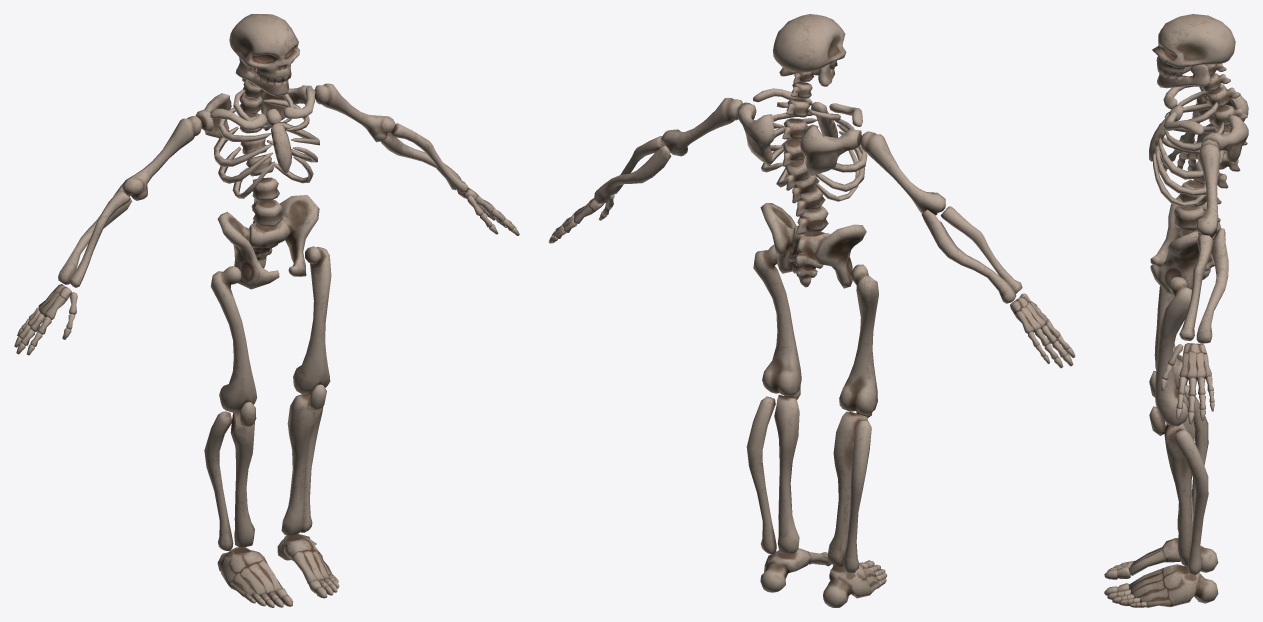
The model's file is showcaseStylizedSkeletonRunner.e222044c.glb.
3 views of the same model, side by side, from view 1: azimuth 30°, elevation 25°; view 2: azimuth 150°, elevation 25°; view 3: azimuth 270°, elevation 25° (orthographic). The views are drawn at different scales.
Parts seen in each view (by area): view 1: Pelvis_low, Skull_low, LFemur_low, RFemur_low, LTibia_low, RFoot_low, RTibia_low, RFibula_low, RHumerus_low, LHumerus_low, LFoot_low, RRadius_low (+10 smaller); view 2: Skull_low, LFemur_low, RFemur_low, Pelvis_low, LTibia_low, RTibia_low, LFibula_low, RFibula_low, RHumerus_low, RScapula_low, RUlna_low, RFoot_low (+7 smaller); view 3: Skull_low, LFemur_low, LFoot_low, Pelvis_low, LFibula_low, LTibia_low, LHumerus_low, LUlna_low, LRadius_low, RFoot_low, LScapula_low, LWrist_low (+22 smaller).
Part boxes in pixels (x1,y1,x2,y2): Pelvis_low: [217, 195, 319, 289]; Skull_low: [229, 14, 299, 82]; LFemur_low: [293, 246, 331, 394]; RFemur_low: [210, 266, 256, 412]; LTibia_low: [281, 394, 321, 536]; RFoot_low: [217, 547, 282, 597]; RTibia_low: [230, 410, 254, 548]; RFibula_low: [204, 411, 233, 550]; RHumerus_low: [122, 116, 202, 200]; LHumerus_low: [314, 83, 395, 142]; LFoot_low: [277, 534, 331, 584]; RRadius_low: [69, 191, 130, 287]; Skull_low: [773, 14, 846, 72]; LFemur_low: [753, 245, 801, 396]; RFemur_low: [839, 264, 878, 415]; Pelvis_low: [760, 203, 866, 288]; LTibia_low: [774, 395, 799, 554]; RTibia_low: [827, 411, 867, 567]; LFibula_low: [746, 396, 776, 554]; RFibula_low: [843, 419, 871, 573]; RHumerus_low: [860, 131, 945, 215]; RScapula_low: [800, 124, 861, 175]; RUlna_low: [921, 209, 1016, 303]; RFoot_low: [823, 564, 879, 607]; Skull_low: [1152, 14, 1235, 77]; LFemur_low: [1154, 276, 1191, 426]; LFoot_low: [1129, 564, 1218, 607]; Pelvis_low: [1150, 194, 1220, 293]; LFibula_low: [1174, 429, 1208, 575]; LTibia_low: [1164, 423, 1192, 567]; LHumerus_low: [1196, 139, 1220, 237]; LUlna_low: [1196, 228, 1228, 343]; LRadius_low: [1179, 234, 1213, 341]; RFoot_low: [1129, 538, 1218, 575]; LScapula_low: [1201, 114, 1248, 163]; LWrist_low: [1179, 343, 1211, 379].
Bounding box in the file's own units: 1.61 × 1.7 × 0.3906.
Materials: 1 (1 with a texture image).
